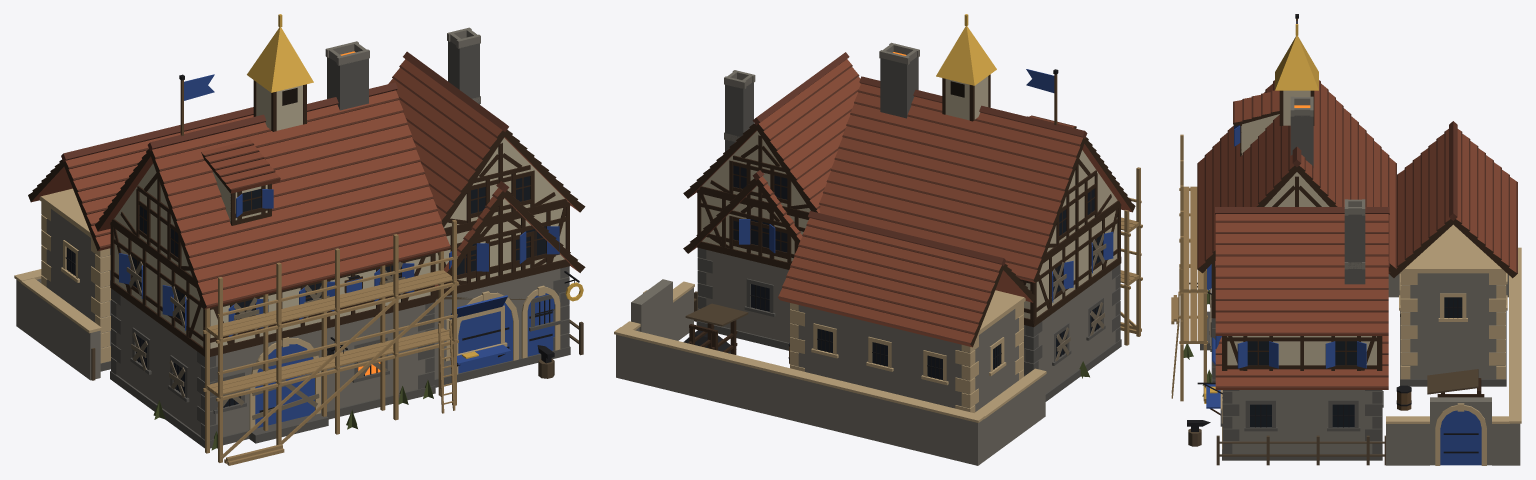
Rendered from schmied.glb.
3 views of the same model, side by side, from view 1: azimuth 30°, elevation 25°; view 2: azimuth 150°, elevation 25°; view 3: azimuth 270°, elevation 25° (orthographic). The views are drawn at different scales.
Visible parts, largest first — view 1: Haus, Stufe3, Geruest, Stufe2, Leerstand, Fahne; view 2: Stufe3, Haus, Stufe2, Geruest, Leerstand, Fahne; view 3: Stufe3, Stufe2, Haus, Geruest, Stufe1.
Boxes of the visible parts, x1=… form: Haus: x1=95, y1=41, x2=450, y2=448; Stufe3: x1=14, y1=14, x2=585, y2=380; Geruest: x1=203, y1=220, x2=458, y2=465; Stufe2: x1=201, y1=96, x2=585, y2=387; Leerstand: x1=126, y1=254, x2=433, y2=450; Fahne: x1=179, y1=74, x2=214, y2=135; Stufe3: x1=614, y1=14, x2=1046, y2=465; Haus: x1=819, y1=42, x2=1135, y2=401; Stufe2: x1=683, y1=115, x2=1076, y2=364; Geruest: x1=1120, y1=167, x2=1142, y2=345; Leerstand: x1=1051, y1=233, x2=1106, y2=378; Fahne: x1=1026, y1=69, x2=1058, y2=124; Stufe3: x1=1197, y1=24, x2=1521, y2=465; Stufe2: x1=1187, y1=90, x2=1484, y2=465; Haus: x1=1189, y1=80, x2=1396, y2=390; Geruest: x1=1171, y1=134, x2=1207, y2=401; Stufe1: x1=1216, y1=435, x2=1384, y2=465.
Bounding box in the file's own units: 15.92 × 14.04 × 13.57.
